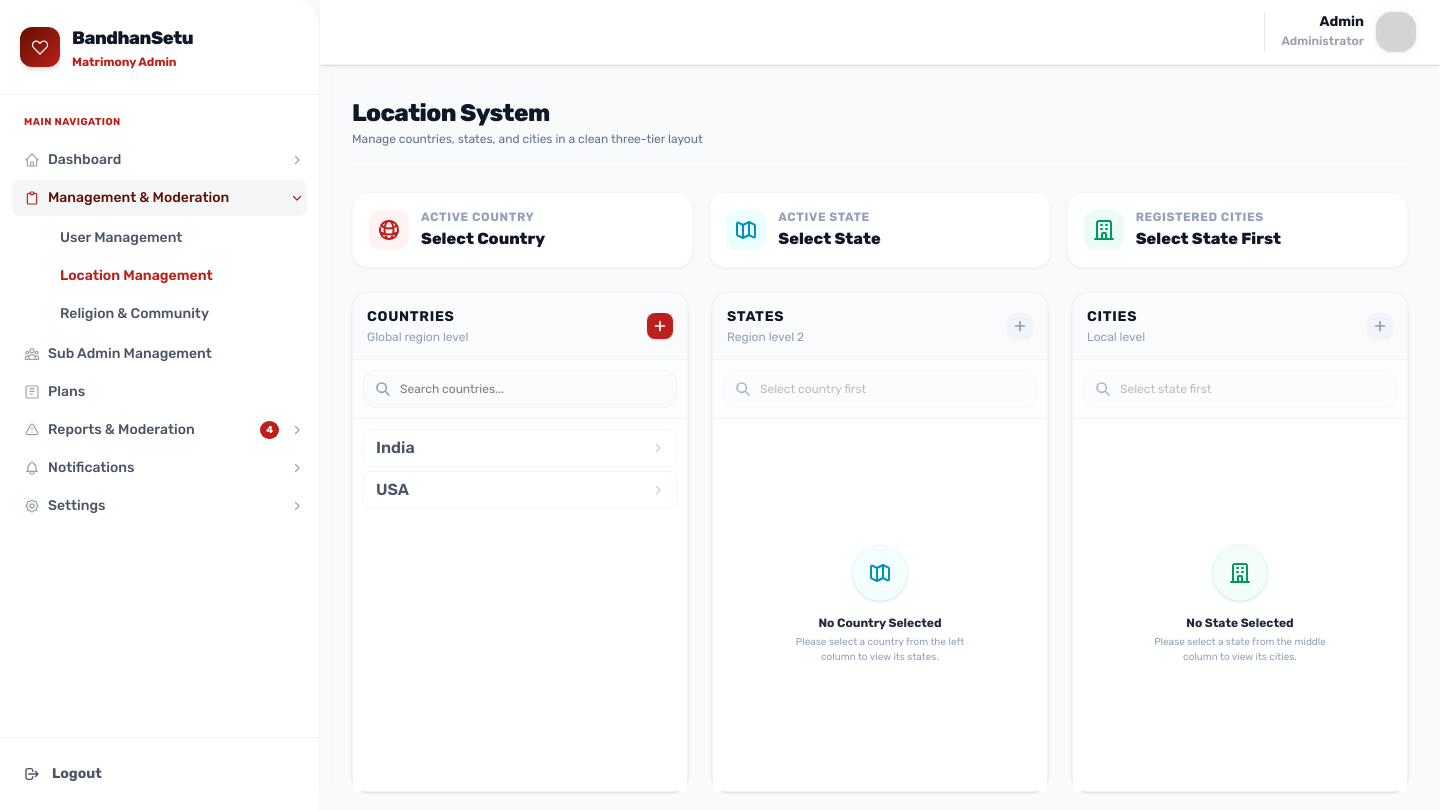
Test: Location Management Integration › opens add country modal
The width and height of the screenshot is (1440, 810).
Expected: the text "India" is shown, [376, 436, 415, 460]
// Find the Add Country button (it might just be a Plus icon, but it has a title "Add New Country")
Click the button titled "add new country" at (660, 326), box [647, 313, 673, 339]
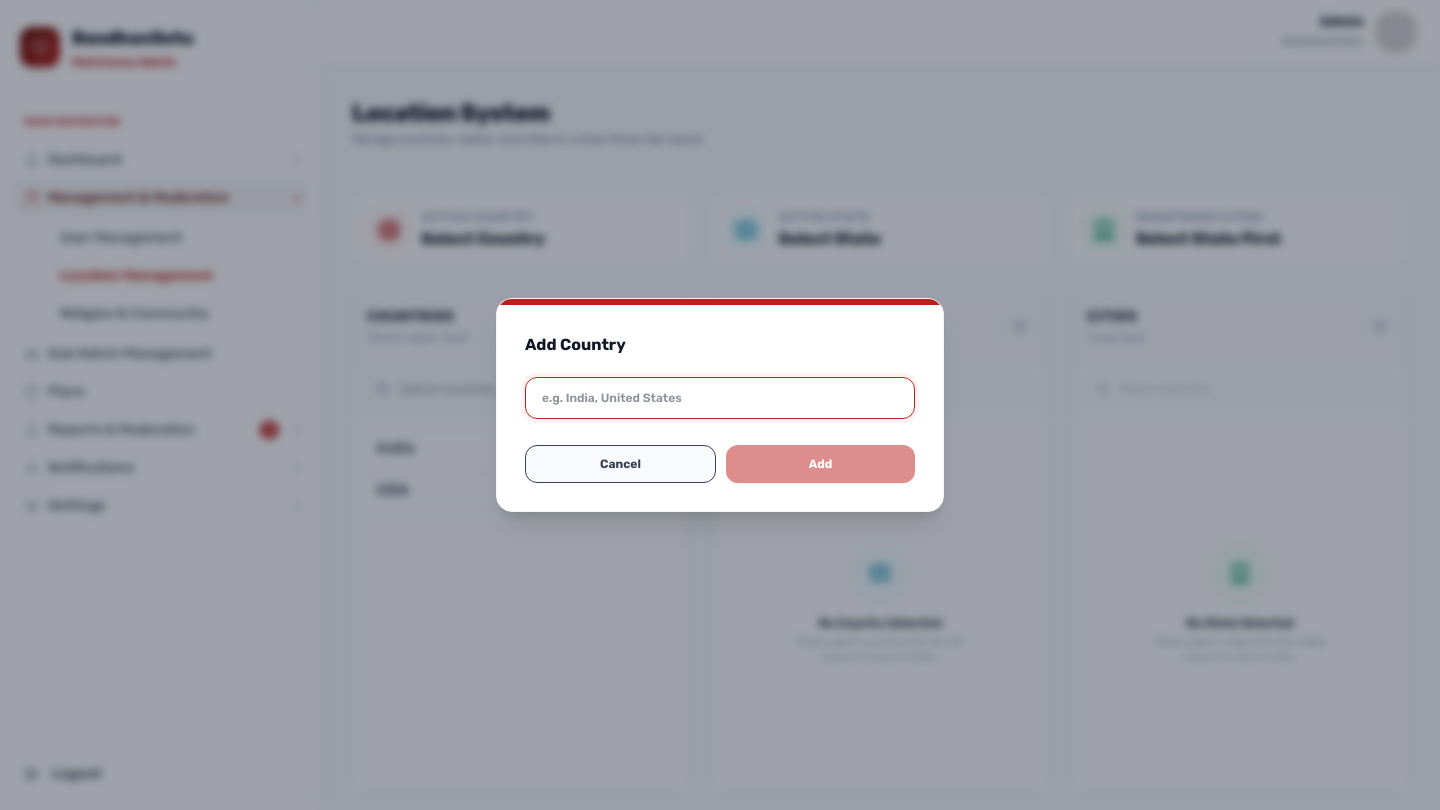
Now the heading "Add Country" is shown, box [525, 335, 626, 354]
